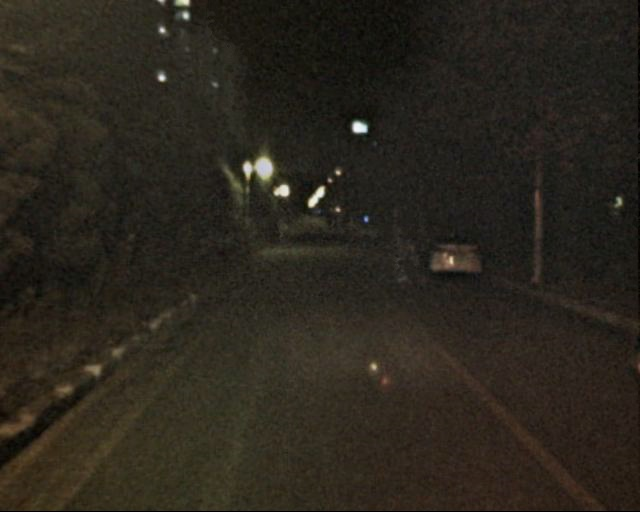person: (409, 224, 434, 286), (387, 228, 411, 286), (323, 216, 347, 237), (275, 218, 287, 248)
